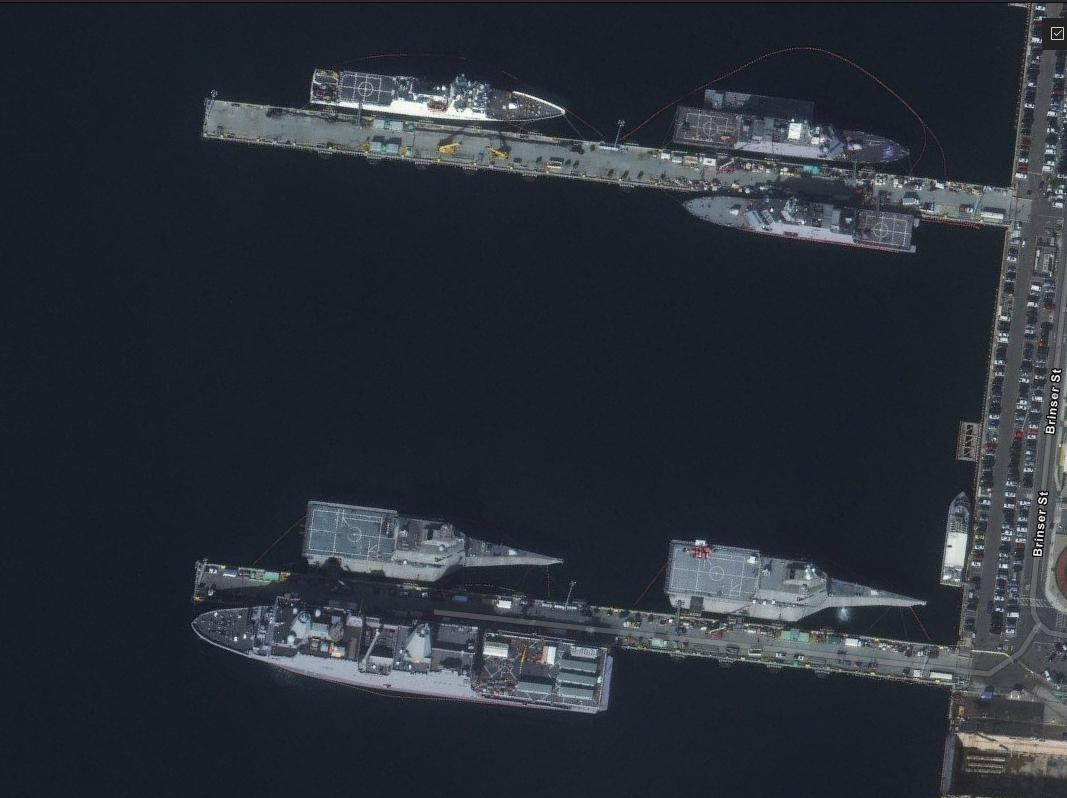amphiby: (184, 595, 615, 724)
littoral combat ship: (274, 497, 577, 588), (653, 531, 933, 622)
patrol: (675, 182, 937, 272), (666, 96, 918, 174)
